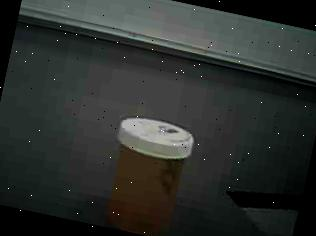Bottle B: (91, 107, 209, 236)
